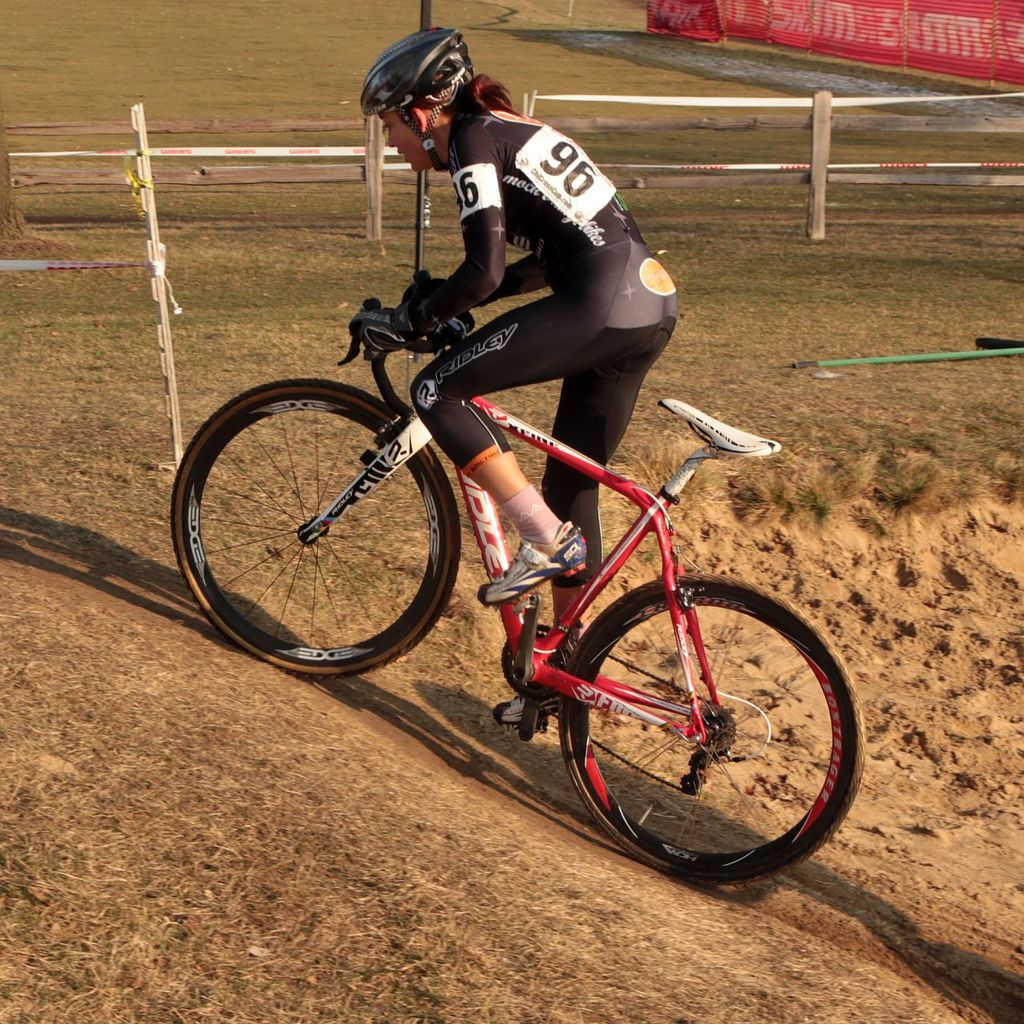Bike: (177, 315, 879, 929)
